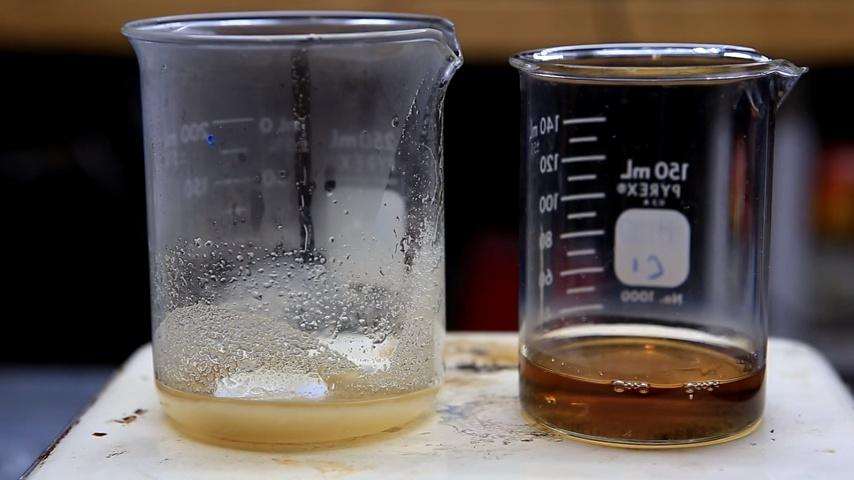Beaker: (111, 13, 466, 450), (502, 29, 811, 457)
